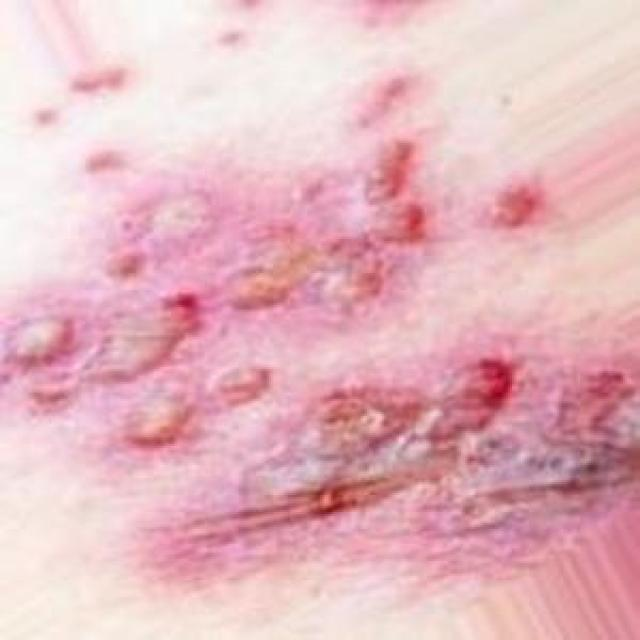Shingles: (0, 144, 622, 529)
